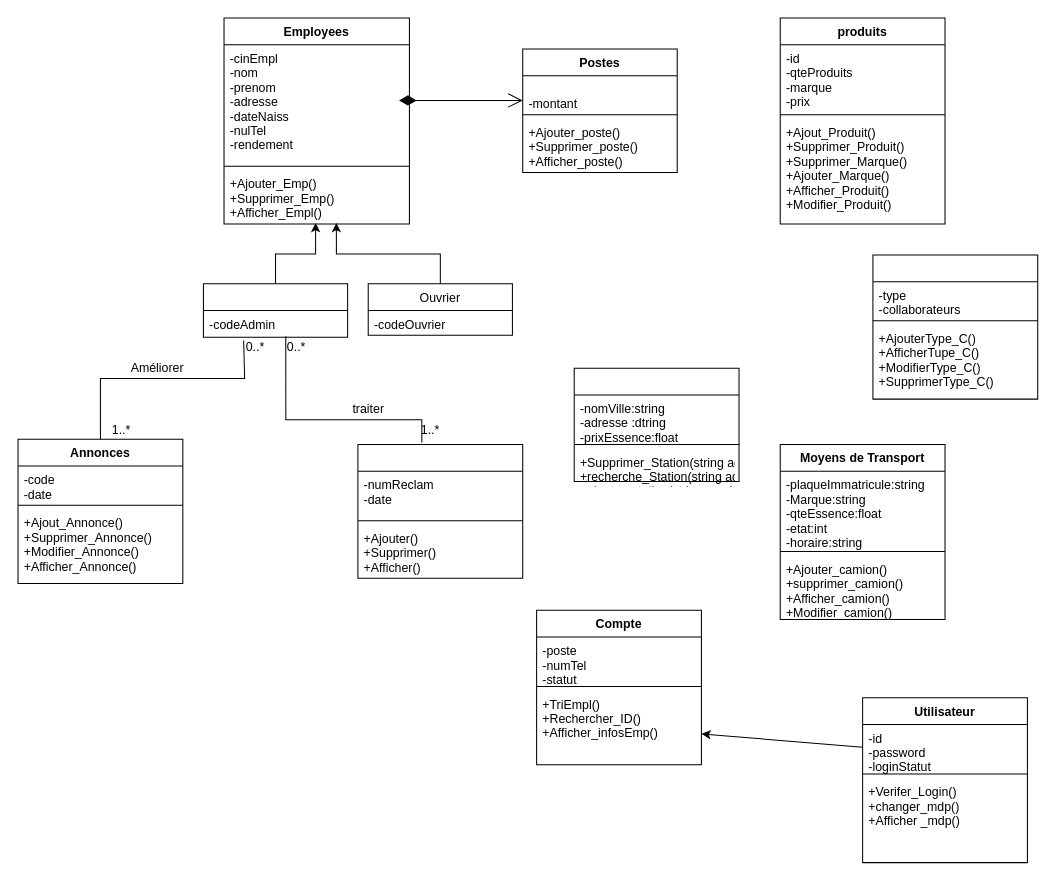
This 1056x884 diagram has some shape labels left out. Here are the shapes that lost their labels. From the top down, the box of each, then its label:
(202, 283, 348, 337): Administrateur
(872, 254, 1038, 399): Categories
(573, 367, 739, 482): Stations Service
(357, 443, 523, 578): Avis/Reclams
